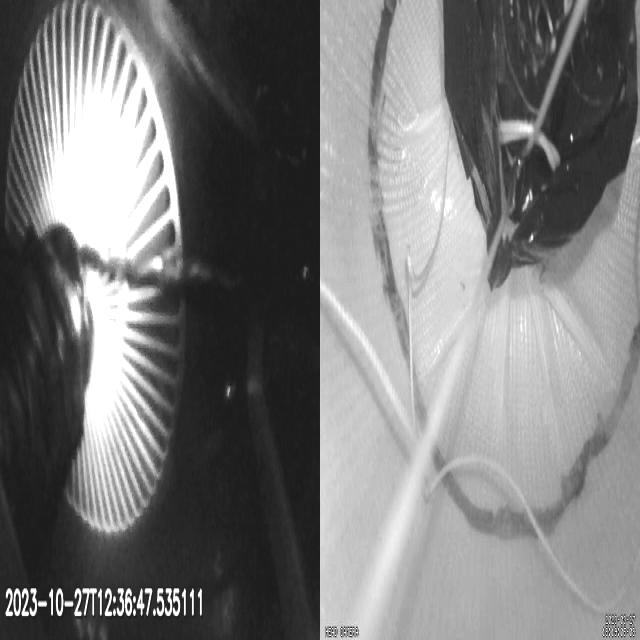red-circle: (367, 1, 640, 543)
